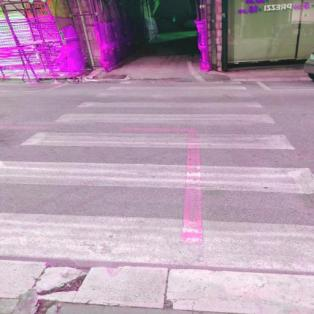Paso de Cebra: (0, 160, 313, 263), (11, 110, 298, 153)
